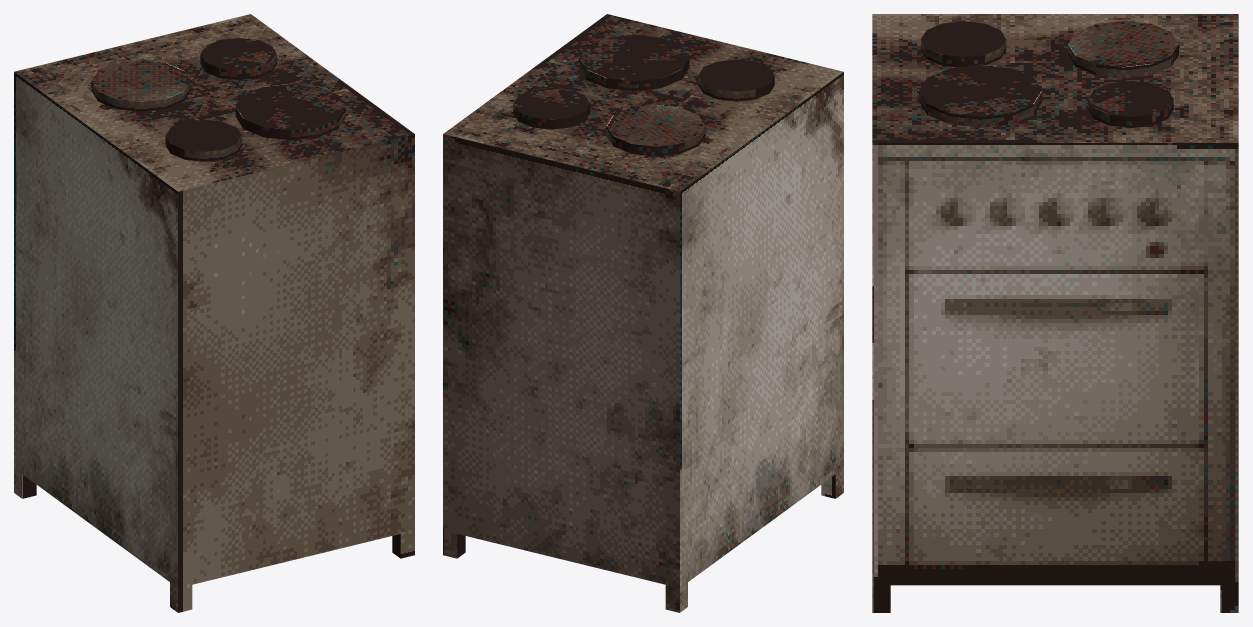
File: oven.glb
The picture shows the model from 3 angles, left to right: view 1: azimuth 30°, elevation 25°; view 2: azimuth 150°, elevation 25°; view 3: azimuth 270°, elevation 25°; orthographic projection. The views are drawn at different scales.
Visible parts, largest first — view 1: oven-col; view 2: oven-col; view 3: oven-col.
Boxes of the visible parts, bbox=[...] form: oven-col: bbox=[14, 14, 414, 612]; oven-col: bbox=[443, 14, 843, 612]; oven-col: bbox=[872, 14, 1238, 612].
Bounding box in the file's own units: 0.5 × 0.87 × 0.6.
1 material, 1 textured.
